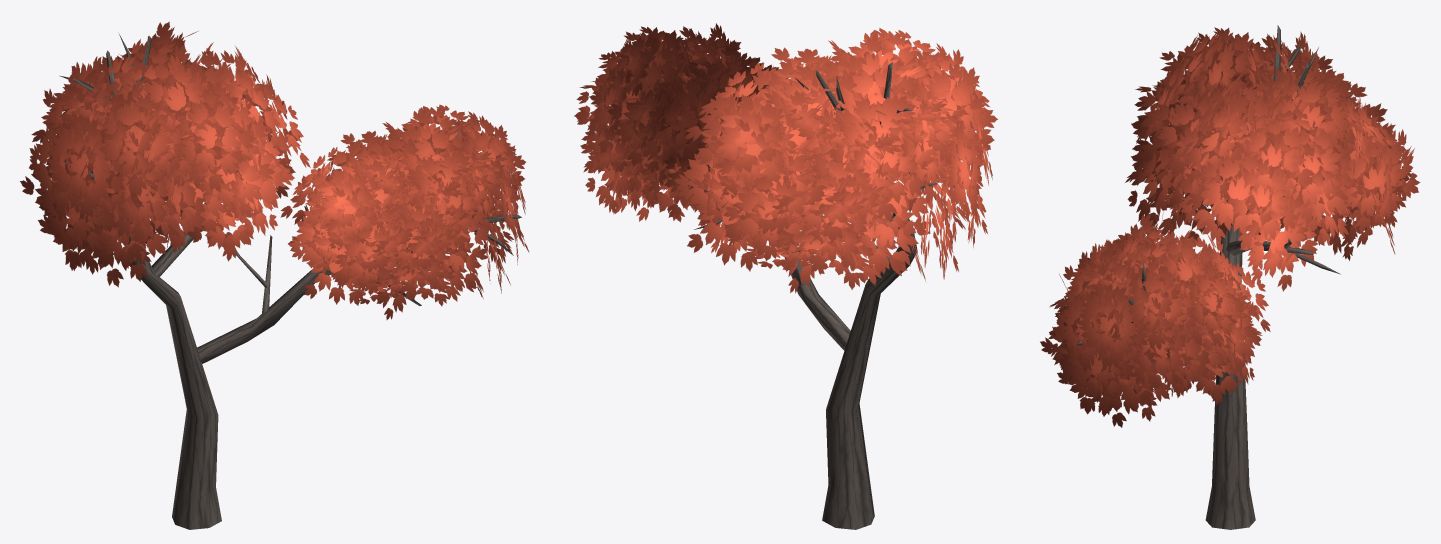
The model's file is MapleTree_1.glb.
3 views of the same model, side by side, from view 1: azimuth 30°, elevation 25°; view 2: azimuth 150°, elevation 25°; view 3: azimuth 270°, elevation 25° (orthographic). The views are drawn at different scales.
Parts seen in each view (by area): view 1: MapleTree_1; view 2: MapleTree_1; view 3: MapleTree_1.
Boxes of the visible parts, x1,y1,x2,y2 form: MapleTree_1: [20, 21, 529, 529]; MapleTree_1: [574, 23, 997, 529]; MapleTree_1: [1040, 25, 1420, 529].
Size of the model in its own units: 6.23 by 6.64 by 4.9.
2 materials, 2 textured.
